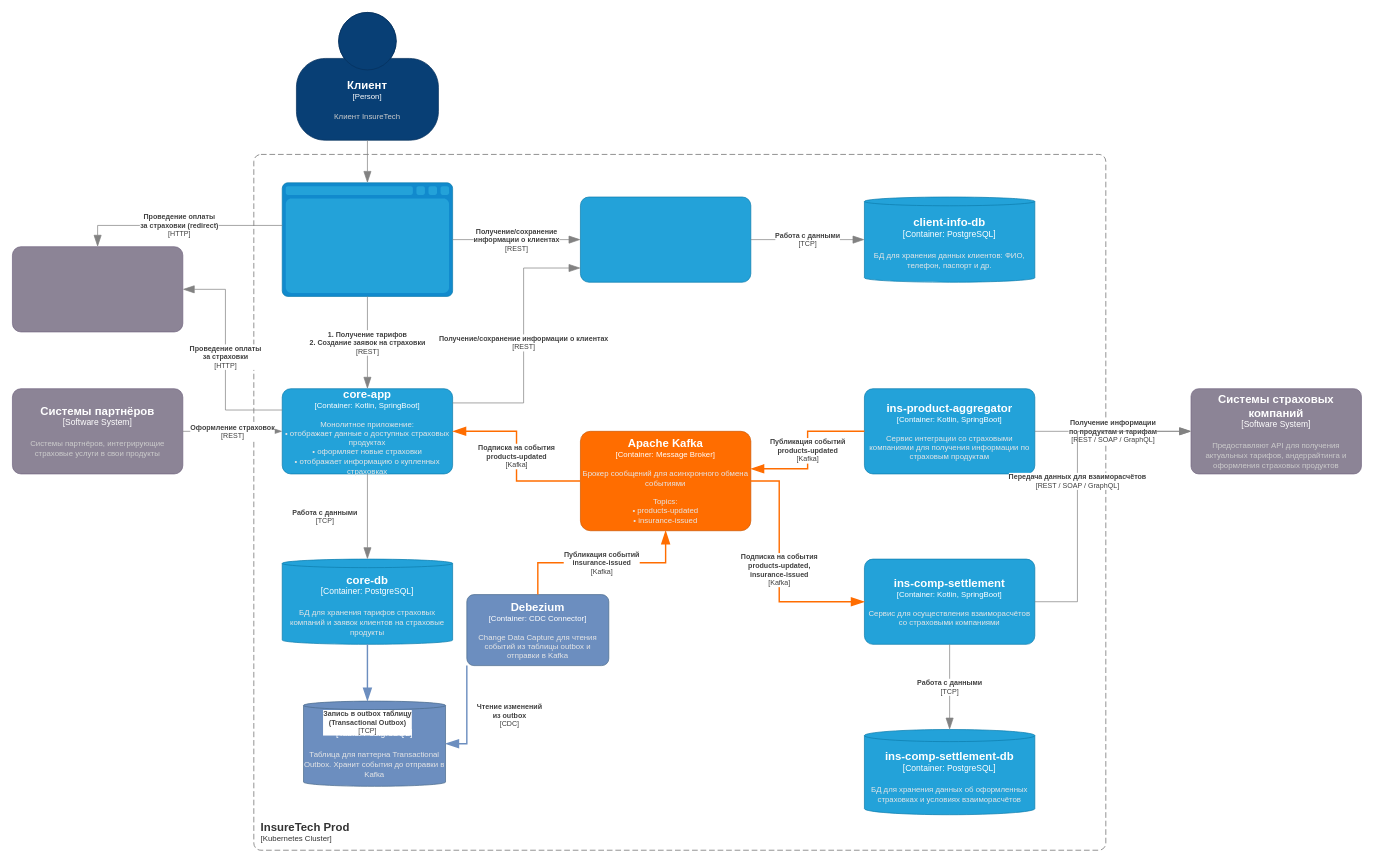
Image size: 1374x863. Some labels were removed from this diagram. Here are the shapes that lost their labels. From the top down, the centre of each, then its label:
the point at 367,239: InsureTech Web [Container: JavaScript, React] Веб-приложение InsureTech
the point at 665,239: client-info [Container: Kotlin, SpringBoot] Сервис для учёта клиентских данных
the point at 97,289: Платёжный сервис [Software System] Внешний платёжный сервис для оплаты страховок
